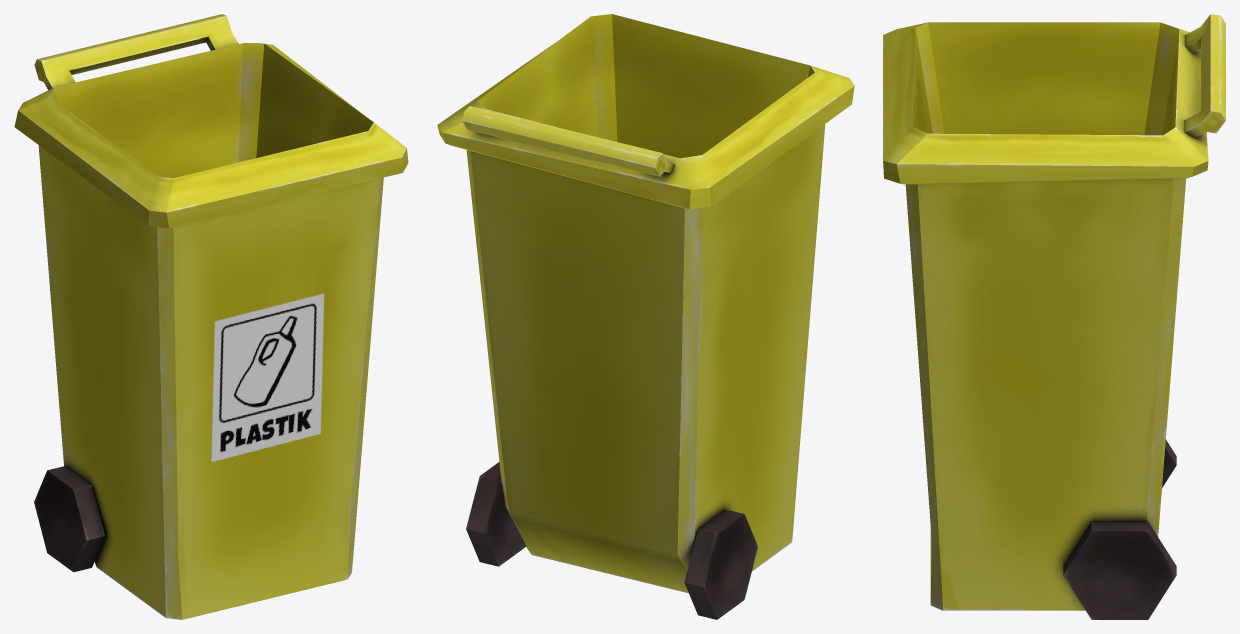
File: muelleimer_neu_offen.fbx
3 renders of one model, left to right at view 1: azimuth 30°, elevation 25°; view 2: azimuth 150°, elevation 25°; view 3: azimuth 270°, elevation 25°, orthographic. The views are drawn at different scales.
Visible parts, largest first — view 1: polySurface2; view 2: polySurface2; view 3: polySurface2.
Boxes of the visible parts, x1,y1,x2,y2 form: polySurface2: (14,14,408,619); polySurface2: (437,14,854,619); polySurface2: (883,14,1225,619).
Size of the model in its own units: 0.3999 by 0.6771 by 0.4213.
